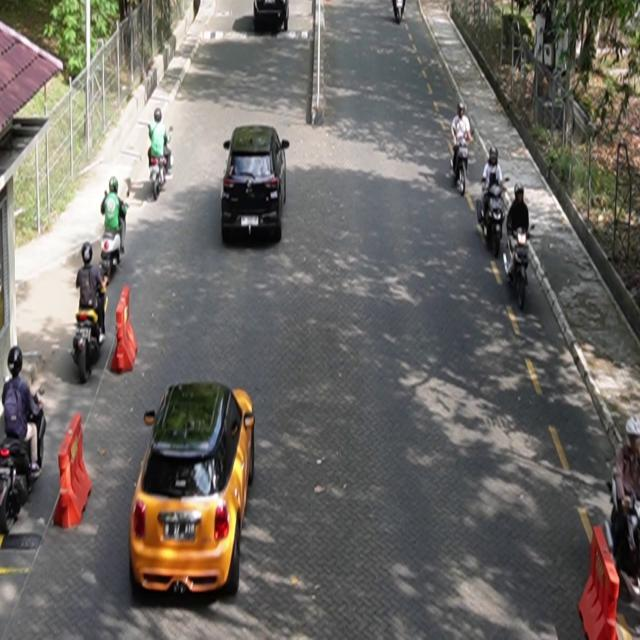car: (130, 381, 256, 598), (222, 124, 291, 245), (253, 1, 290, 32)
